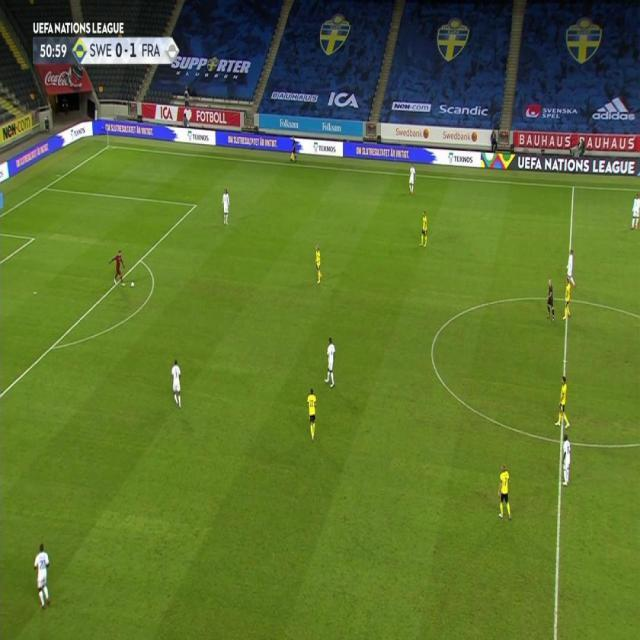ball: (130, 280, 134, 288)
goalkeeper: (109, 248, 126, 287)
player: (33, 542, 53, 608), (497, 462, 514, 521), (554, 376, 571, 430), (169, 357, 184, 410), (305, 386, 319, 442), (560, 429, 573, 487), (323, 336, 337, 388), (565, 246, 577, 287), (562, 277, 573, 320), (221, 187, 231, 226), (314, 243, 323, 285), (419, 209, 428, 248), (630, 195, 640, 230), (408, 163, 417, 195)
referee: (546, 277, 557, 323), (290, 135, 298, 163)
